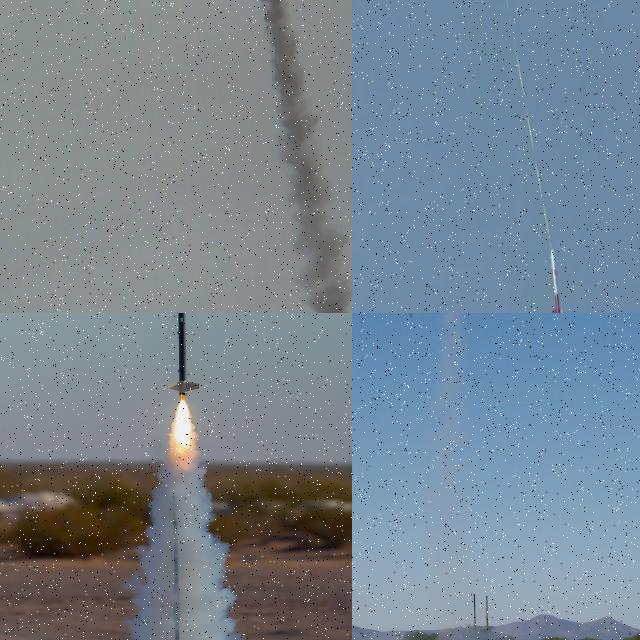Rocket: (168, 313, 201, 397), (549, 250, 565, 313)
